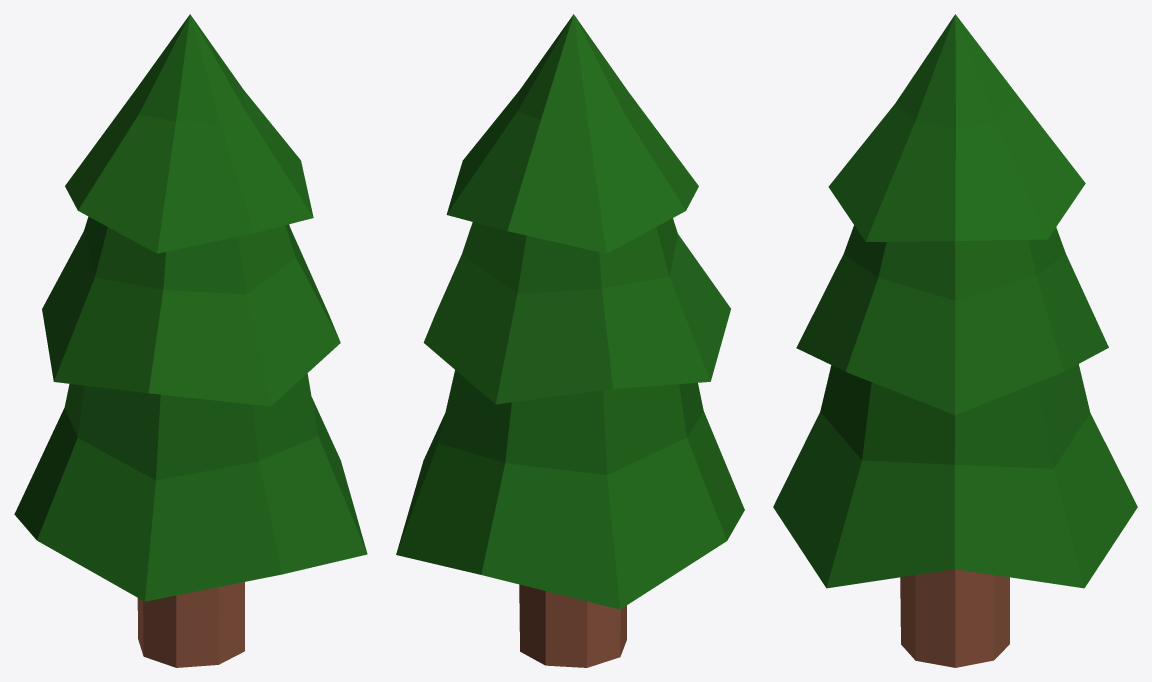
File: Tree_01_autumn.fbx
The picture shows the model from 3 angles, left to right: view 1: azimuth 30°, elevation 25°; view 2: azimuth 150°, elevation 25°; view 3: azimuth 270°, elevation 25°; orthographic projection.
Parts seen in each view (by area): view 1: Tree_01_autumn; view 2: Tree_01_autumn; view 3: Tree_01_autumn.
Boxes of the visible parts, x1,y1,x2,y2 form: Tree_01_autumn: (14,14,367,667); Tree_01_autumn: (396,14,744,667); Tree_01_autumn: (773,14,1137,667).
Bounding box in the file's own units: 83.22 × 165 × 86.78.
